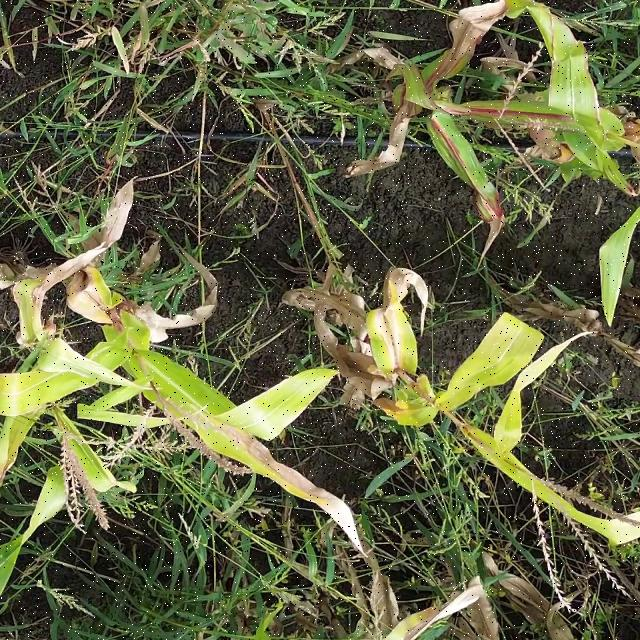northern-leaf-blight: (202, 411, 303, 485), (364, 304, 422, 370)
